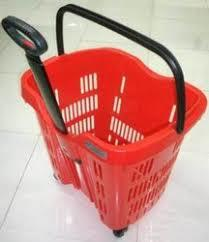with_basket: (1, 6, 209, 232)
